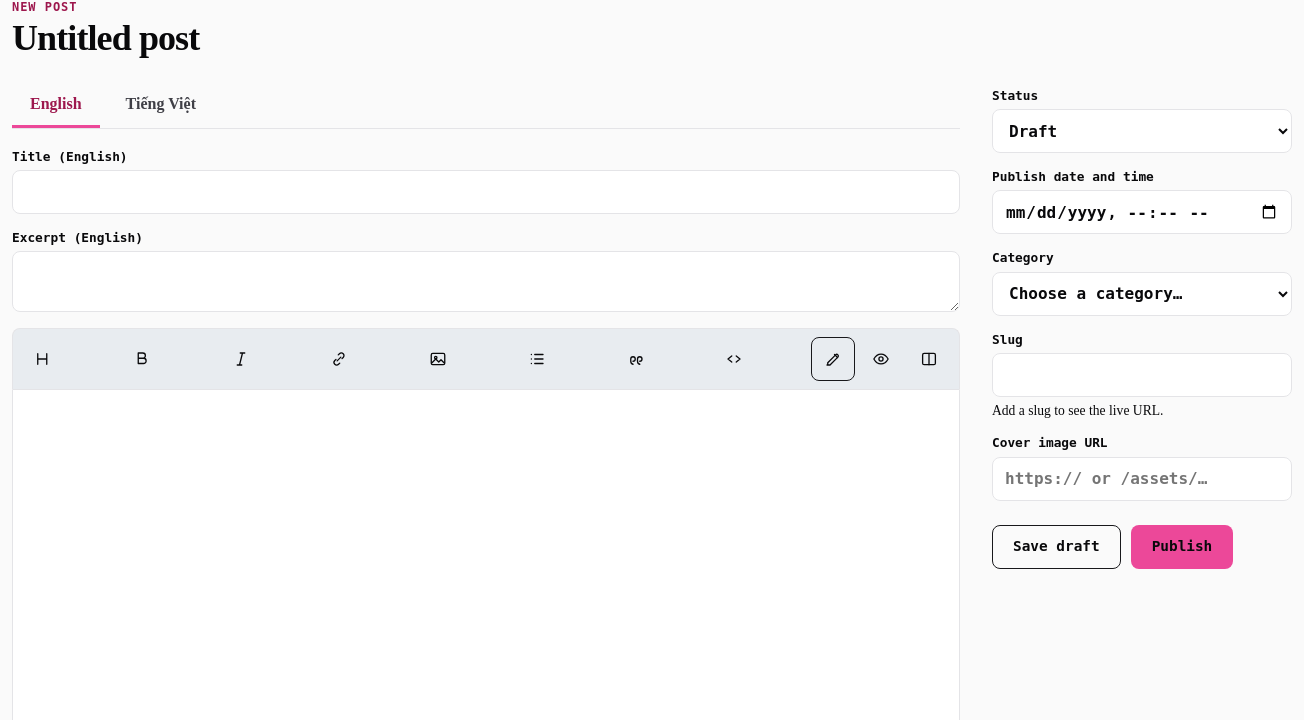
Scenario: SEO preview › shows a relative preview URL with no hardcoded personal domain when VITE_SITE_URL is unset
In the field labelled "Title (English)": coordinates (486, 192) [12,170,960,214], type "A real publishing walkthrough"
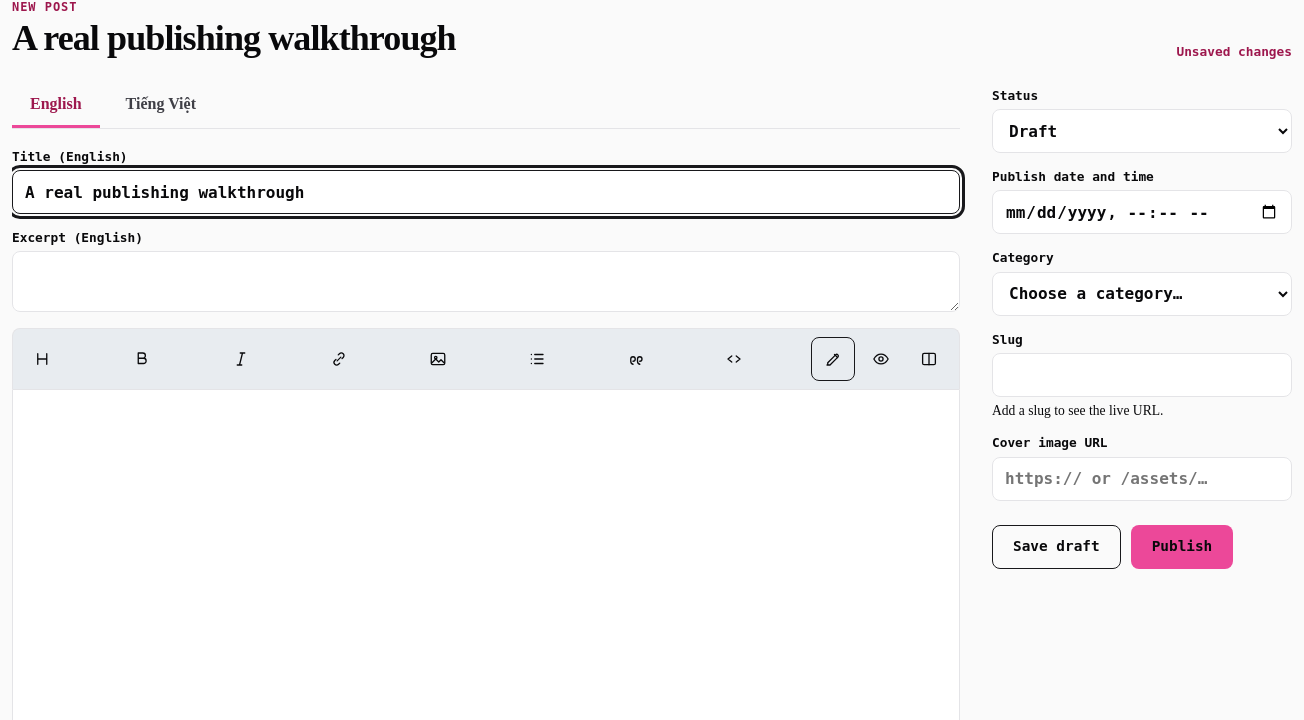
Click the field labelled "Slug": coordinates (1142, 375) [992,353,1292,397]
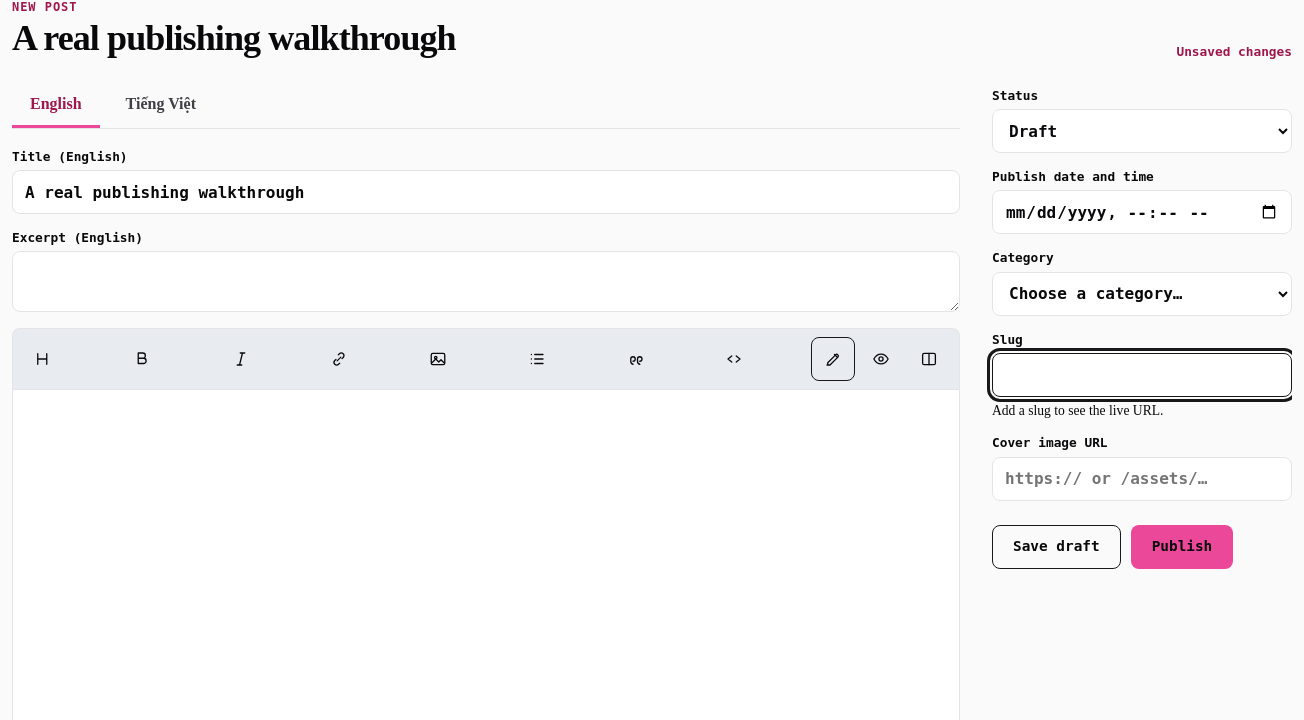
Press Tab
(page scrolled)
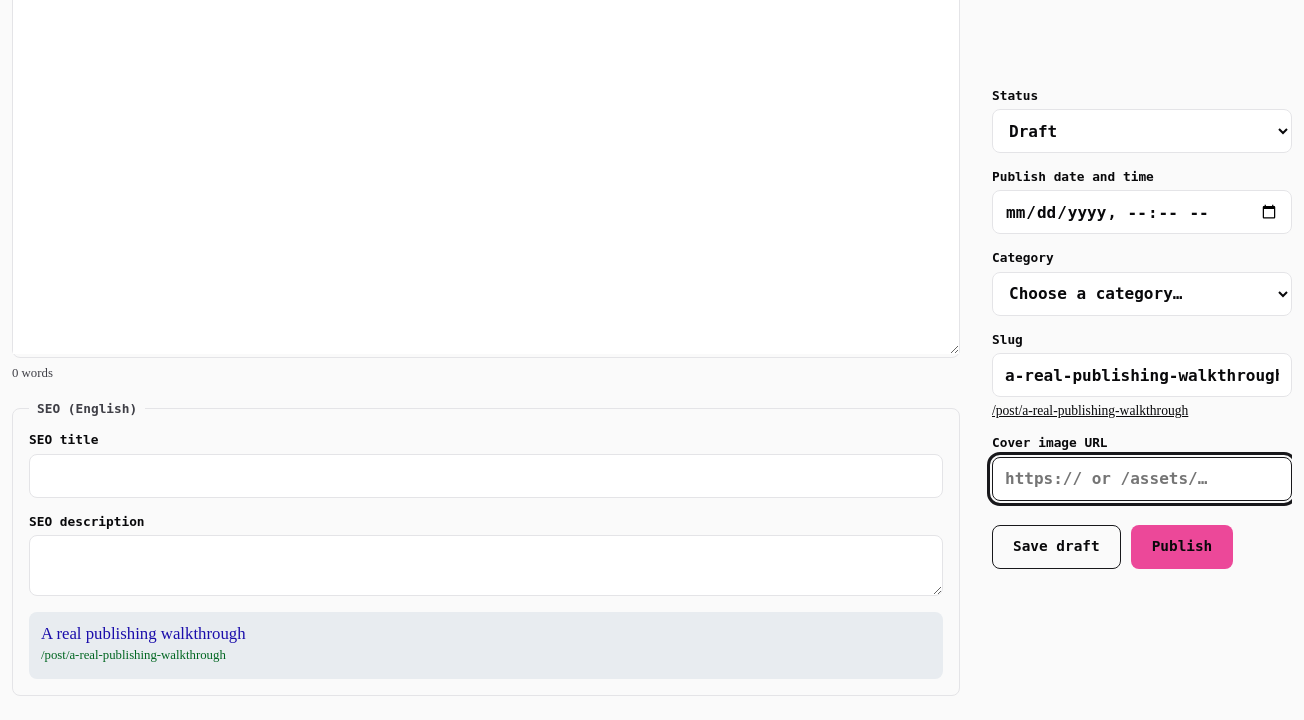
expect the field labelled "Slug" holds "a-real-publishing-walkthrough": met, box [992,353,1292,397]
expect the text "/post/a-real-publishing-walkthrough" is shown: met, box [41,648,226,662]
